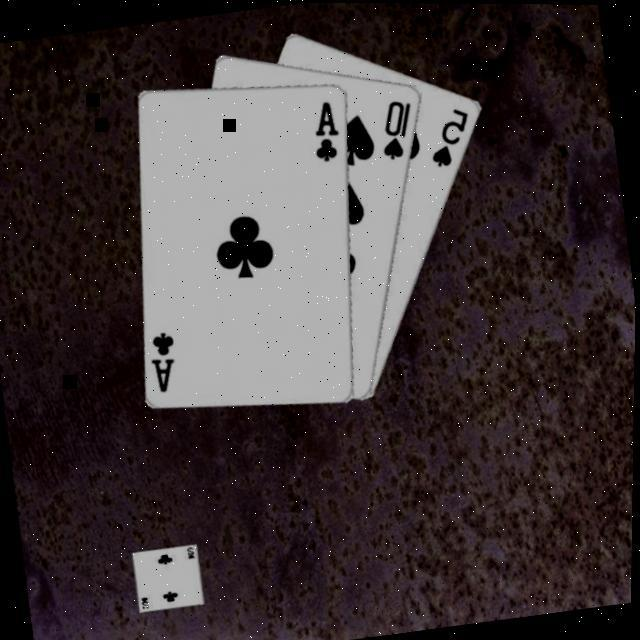10S: (372, 96, 420, 165)
5S: (422, 103, 478, 171)
AC: (305, 97, 346, 165), (143, 327, 183, 396)
